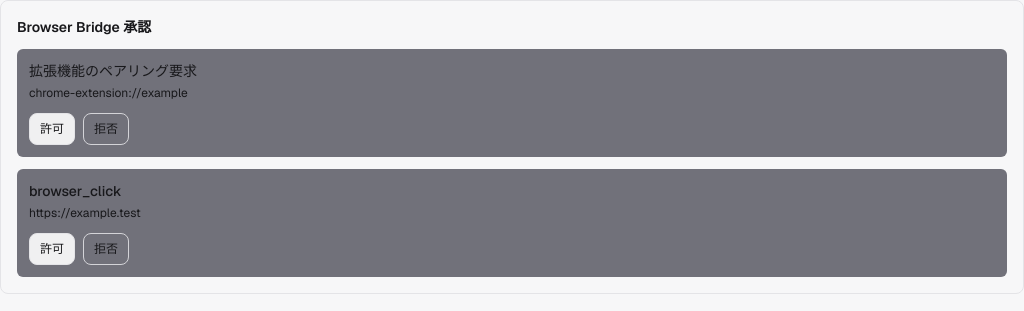
Test: BrowserBridgeApprovals › disables every approval action while another decision is pending
Click the button "許可" below "chrome-extension://example" at (52, 129), box x1=29 y1=113 x2=75 y2=145
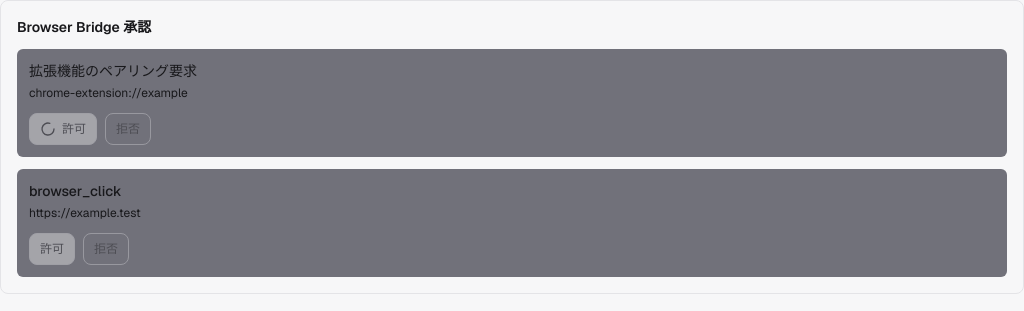
Check: the button "許可" below "chrome-extension://example" is disabled, box x1=29 y1=113 x2=97 y2=145
Check: the button "許可" below "https://example.test" is disabled, box x1=29 y1=233 x2=75 y2=265
